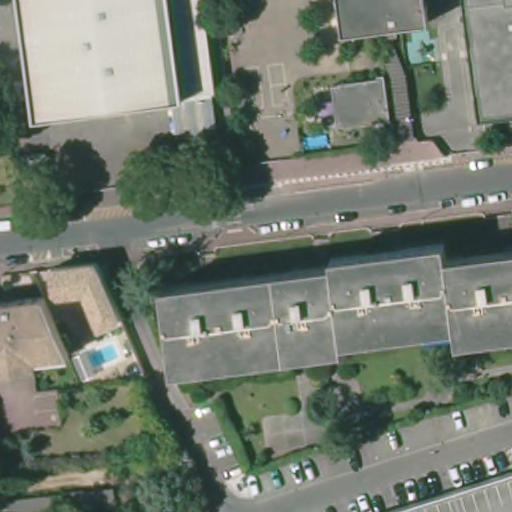pool: (84, 343, 120, 369), (301, 135, 334, 151)
